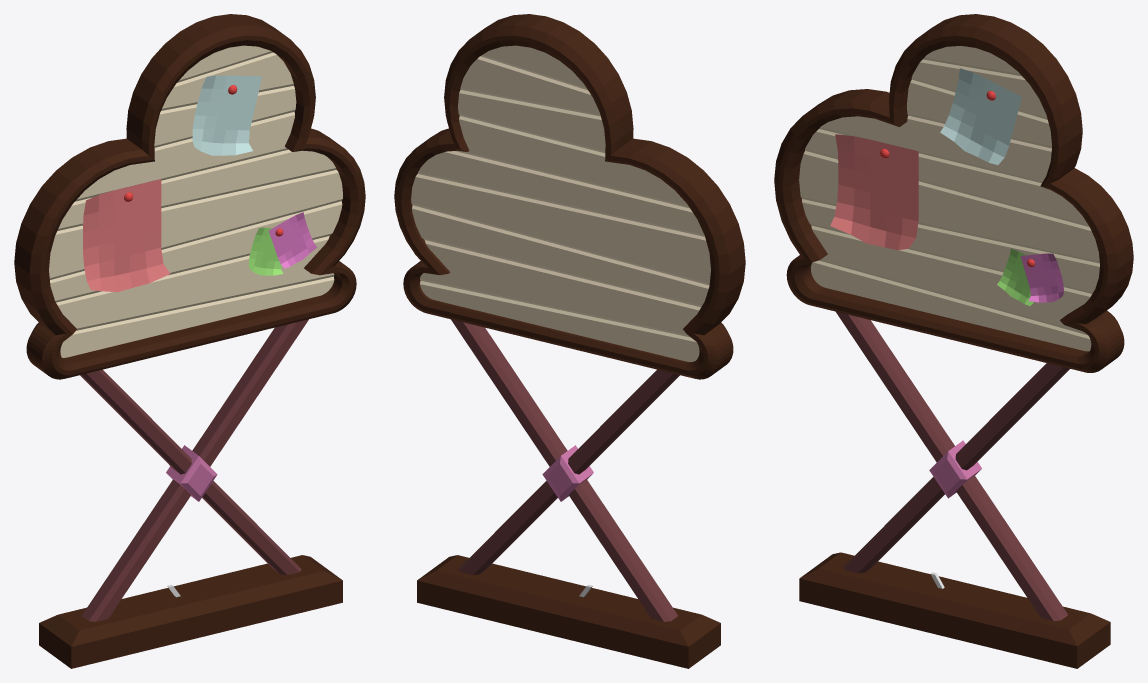
Rendered from iceCreamSignblend.fbx.
3 renders of one model, left to right at view 1: azimuth 30°, elevation 25°; view 2: azimuth 150°, elevation 25°; view 3: azimuth 330°, elevation 25°, orthographic. The views are drawn at different scales.
Visible parts, largest first — view 1: Plane, Circle, base, legRight, Plane.007, legLeft, Plane.004, Plane.003, intersection, Plane.002; view 2: Plane.001, Circle, base, legRight, legLeft, intersection; view 3: Plane, Circle, base, legLeft, Plane.007, legRight, Plane.004, Plane.003, intersection, Plane.002.
Boxes of the visible parts, x1,y1,x2,y2 form: Plane: [49, 45, 342, 357]; Circle: [14, 14, 365, 379]; base: [39, 555, 342, 668]; legRight: [82, 319, 308, 621]; Plane.007: [83, 179, 169, 292]; legLeft: [80, 369, 301, 575]; Plane.004: [192, 75, 262, 155]; Plane.003: [269, 212, 317, 268]; intersection: [166, 445, 217, 501]; Plane.002: [248, 227, 283, 275]; Plane.001: [411, 45, 710, 361]; Circle: [394, 14, 745, 379]; base: [417, 555, 720, 668]; legRight: [451, 319, 677, 621]; legLeft: [458, 369, 679, 575]; intersection: [542, 445, 593, 501]; Plane: [799, 46, 1099, 351]; Circle: [774, 14, 1133, 372]; base: [799, 552, 1110, 668]; legLeft: [836, 311, 1067, 621]; Plane.007: [830, 134, 918, 250]; legRight: [843, 363, 1069, 573]; Plane.004: [940, 68, 1021, 164]; Plane.003: [1020, 253, 1063, 302]; intersection: [929, 440, 981, 498]; Plane.002: [997, 248, 1033, 305].
Bounding box in the file's own units: 189 × 319 × 31.56.
